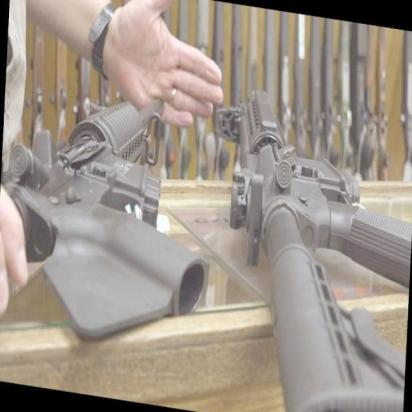Gun: (203, 83, 412, 412), (0, 62, 174, 267)
